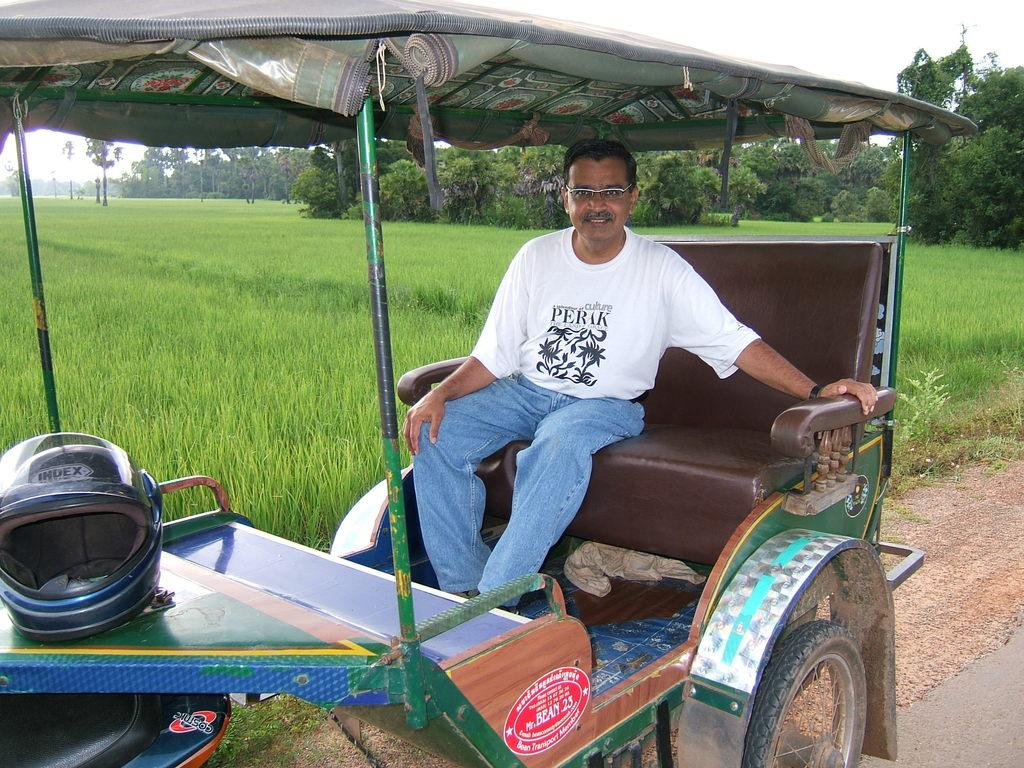helmet: (0, 432, 164, 642)
nohelmet: (560, 137, 640, 249)
